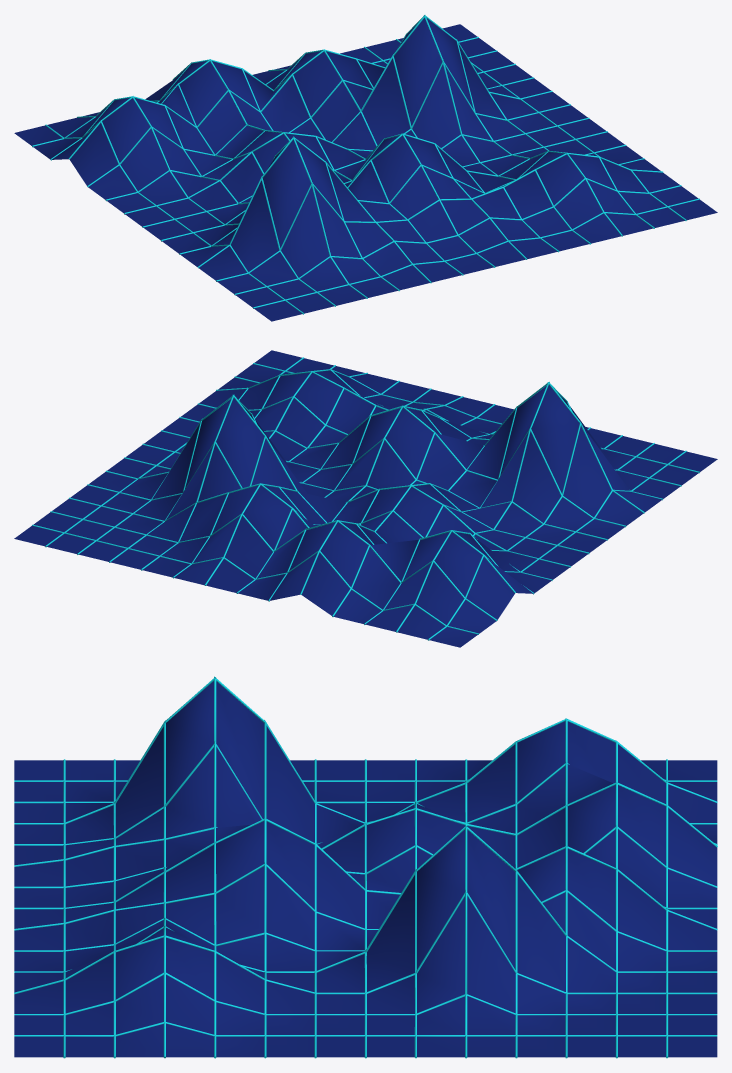
File: Mountain01_Mapa01.FBX
The picture shows the model from 3 angles, top to bottom: view 1: azimuth 30°, elevation 25°; view 2: azimuth 150°, elevation 25°; view 3: azimuth 270°, elevation 25°; orthographic projection. The views are drawn at different scales.
Parts seen in each view (by area): view 1: Plane001, Shape010; view 2: Plane001, Shape010; view 3: Plane001, Shape010.
Part boxes in pixels (x1,y1,x2,y2): Plane001: (14,18,717,321); Shape010: (32,15,699,314); Plane001: (14,350,717,647); Shape010: (32,357,699,640); Plane001: (14,681,717,1057); Shape010: (14,676,717,1058).
Size of the model in its own units: 601 by 140 by 601.
